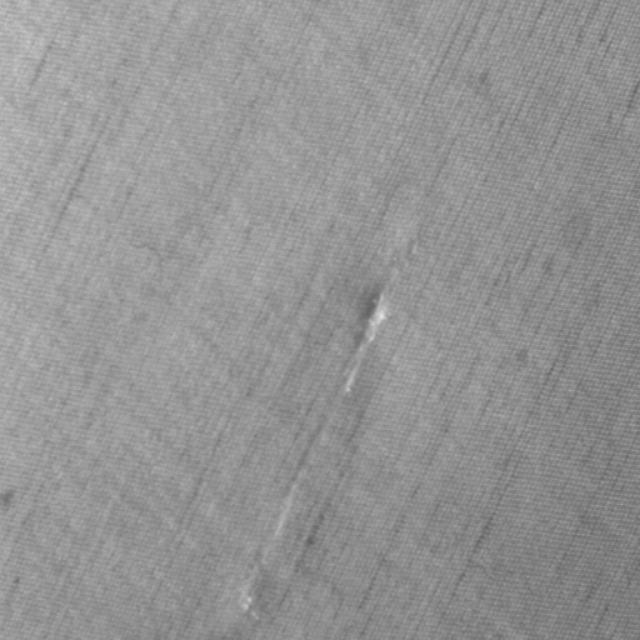thread error: (325, 234, 417, 411), (229, 552, 281, 628)
